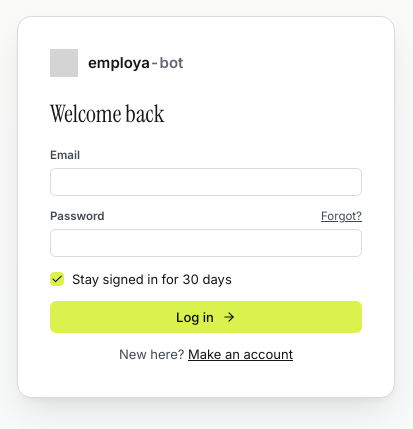
it: AuthFlow - login surface (/login) › "Forgot?" advances to the reset-password step
Click the button "Forgot?".
click(342, 217)  # box [321,208,362,225]
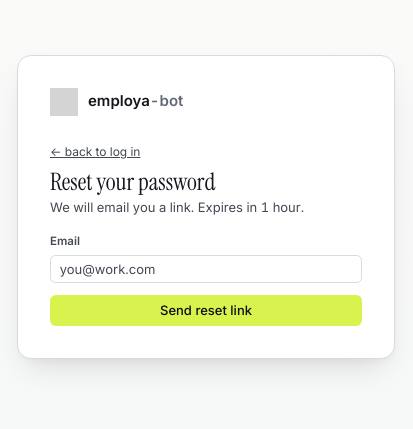
Result: the heading "Reset your password" is shown at [50,166,215,197]
